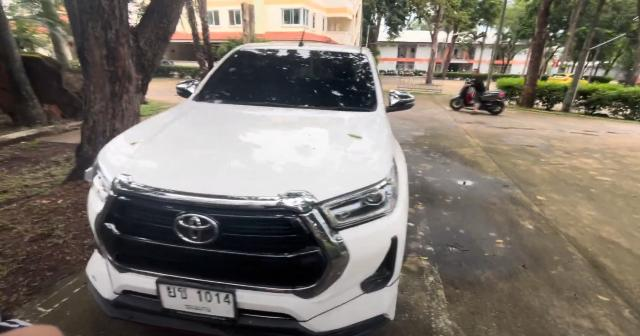pickup-truck: (84, 43, 413, 336)
